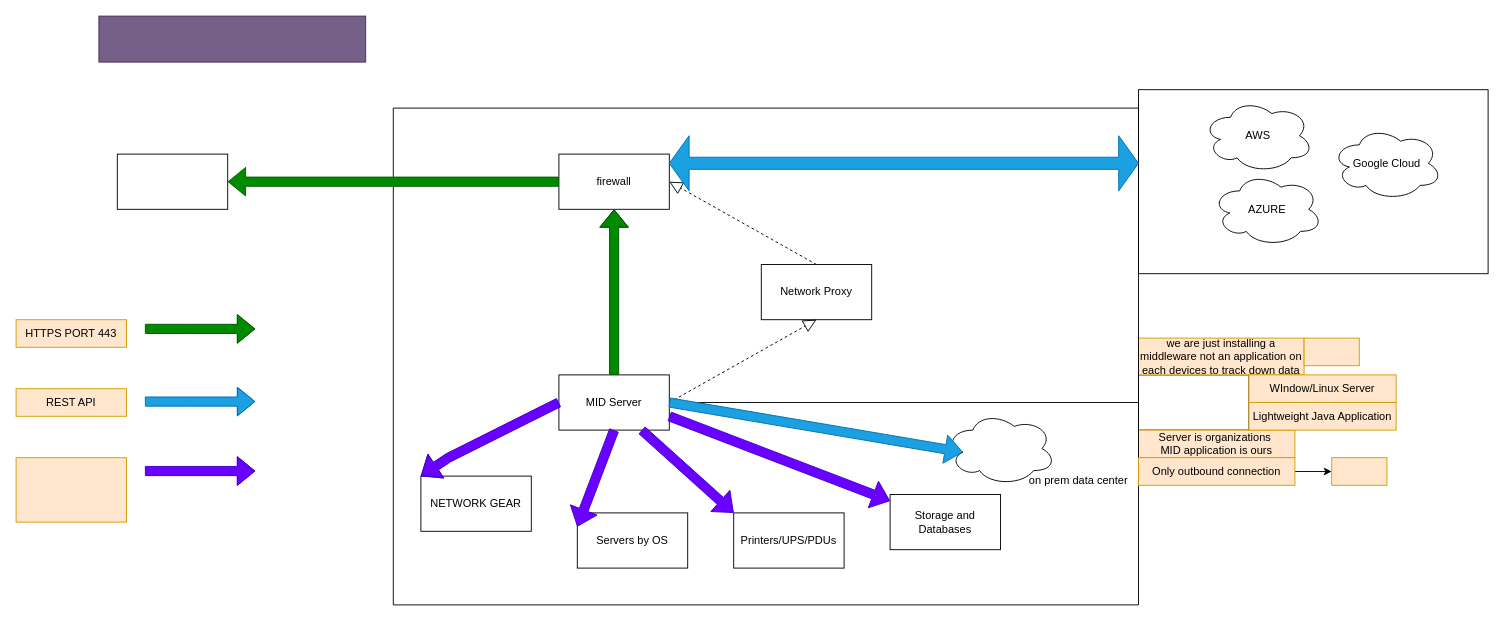
Some shapes in this 1504 by 621 pixel diagram are drawn without their labels. Each missing label, with the centre of its shape:
"Agentless" belongs at point 1331,351.
"DISCOVERY ARCHITECTURE" belongs at point 232,38.
"Security" belongs at point 1359,471.
"ServiceNow" belongs at point 172,181.
"SSH, SNMP, PowerShell, WinRM, VMI, CIM, WBEM" belongs at point 70,489.
"vmware" belongs at point 1000,448.
"we as a serviceNow Team install/configure the MID server" belongs at point 1193,402.
